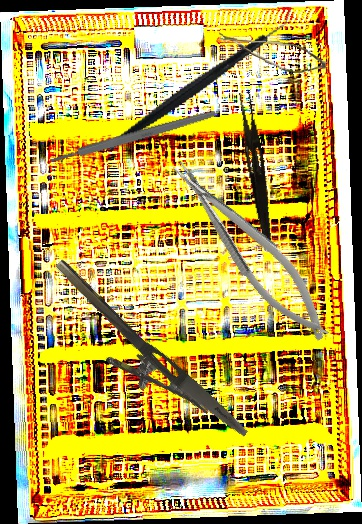Chopper: (86, 4, 314, 152)
Dressing Forceps: (83, 295, 252, 441), (233, 90, 280, 248)
Micro Scissor: (216, 33, 329, 75)
Needle Holder: (163, 145, 341, 354), (34, 257, 212, 438)
Scalpel Handle: (48, 108, 217, 166)
